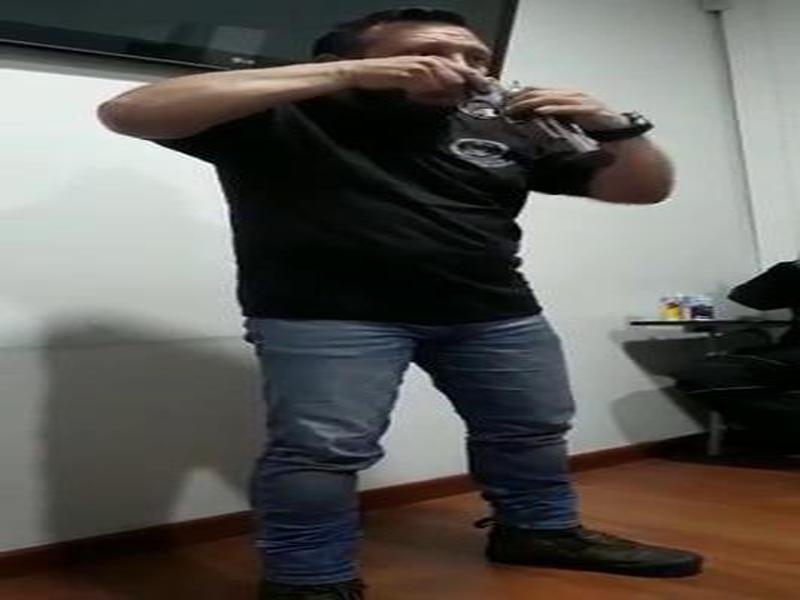Revolver: (428, 47, 624, 169)
